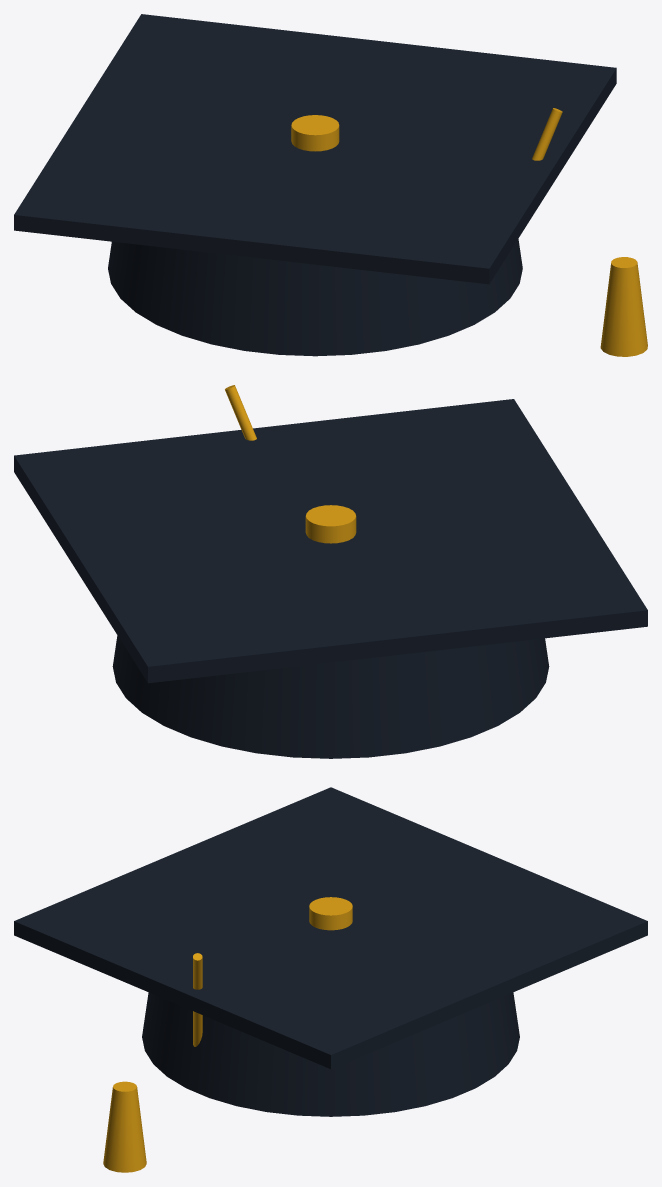
File: graduation-cap.glb
3 renders of one model, top to bottom at view 1: azimuth 30°, elevation 25°; view 2: azimuth 150°, elevation 25°; view 3: azimuth 270°, elevation 25°, orthographic. The views are drawn at different scales.
Bounding box in the file's own units: 2.62 × 0.8964 × 2.62.
